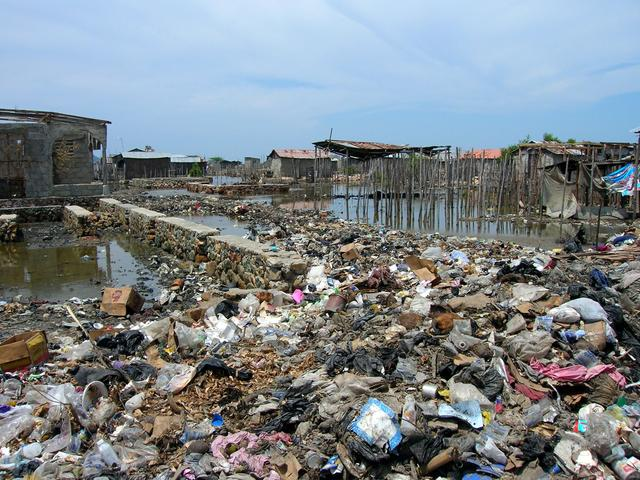garbage: (74, 331, 635, 476), (335, 250, 568, 320)
